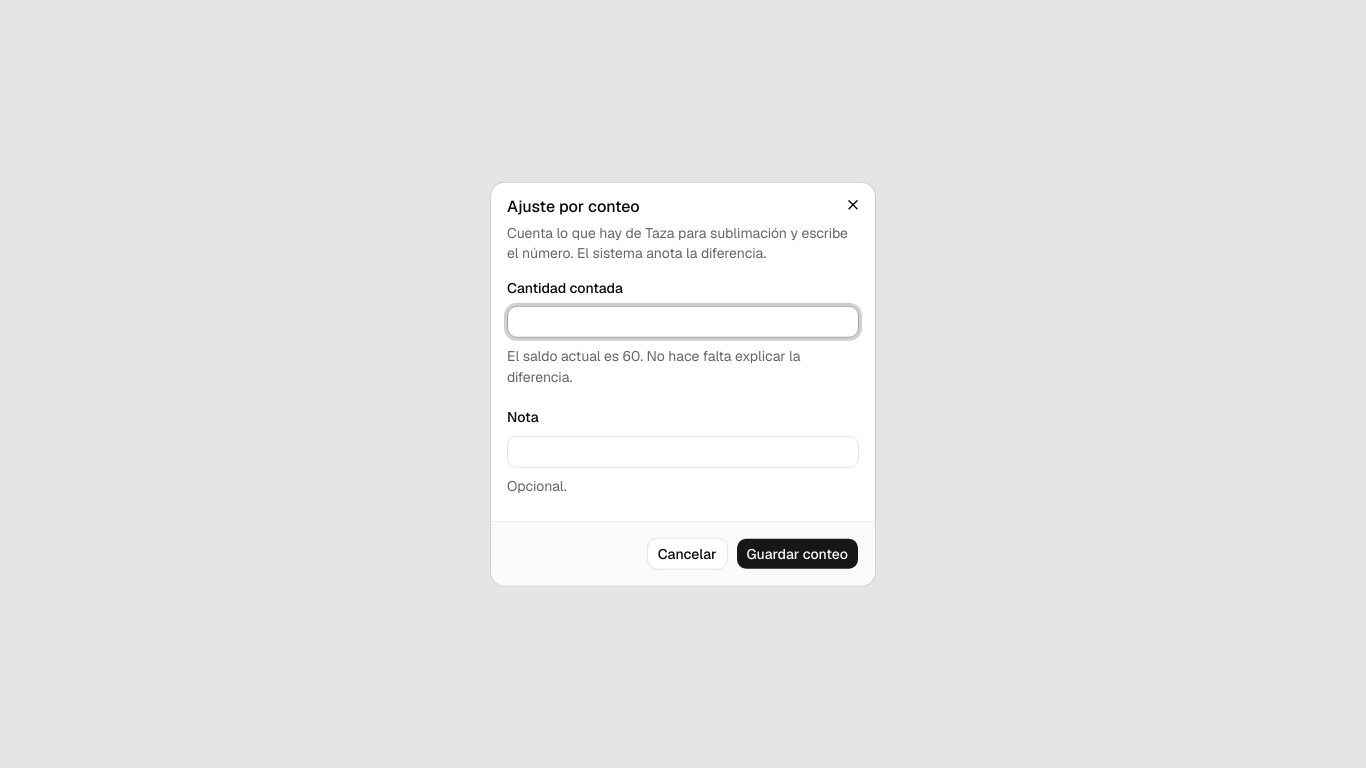
Test: CountDialog › rechaza un conteo negativo sin llegar a encolar
This screenshot has width=1366, height=768.
Step 1. Type "-3" into the field labelled "Cantidad contada" → (683, 322), box x1=507 y1=306 x2=859 y2=338
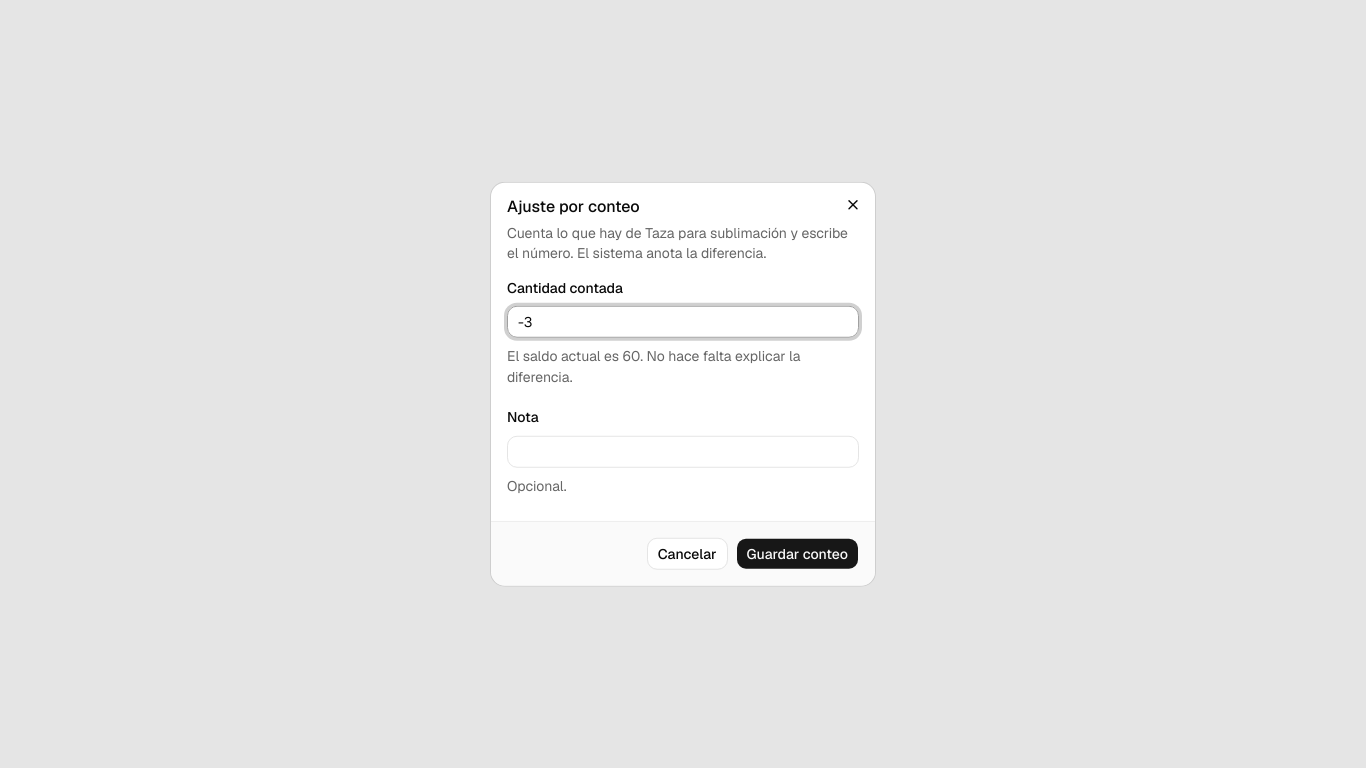
Step 2. Click the button "Guardar conteo" → (797, 553), box x1=736 y1=537 x2=859 y2=569
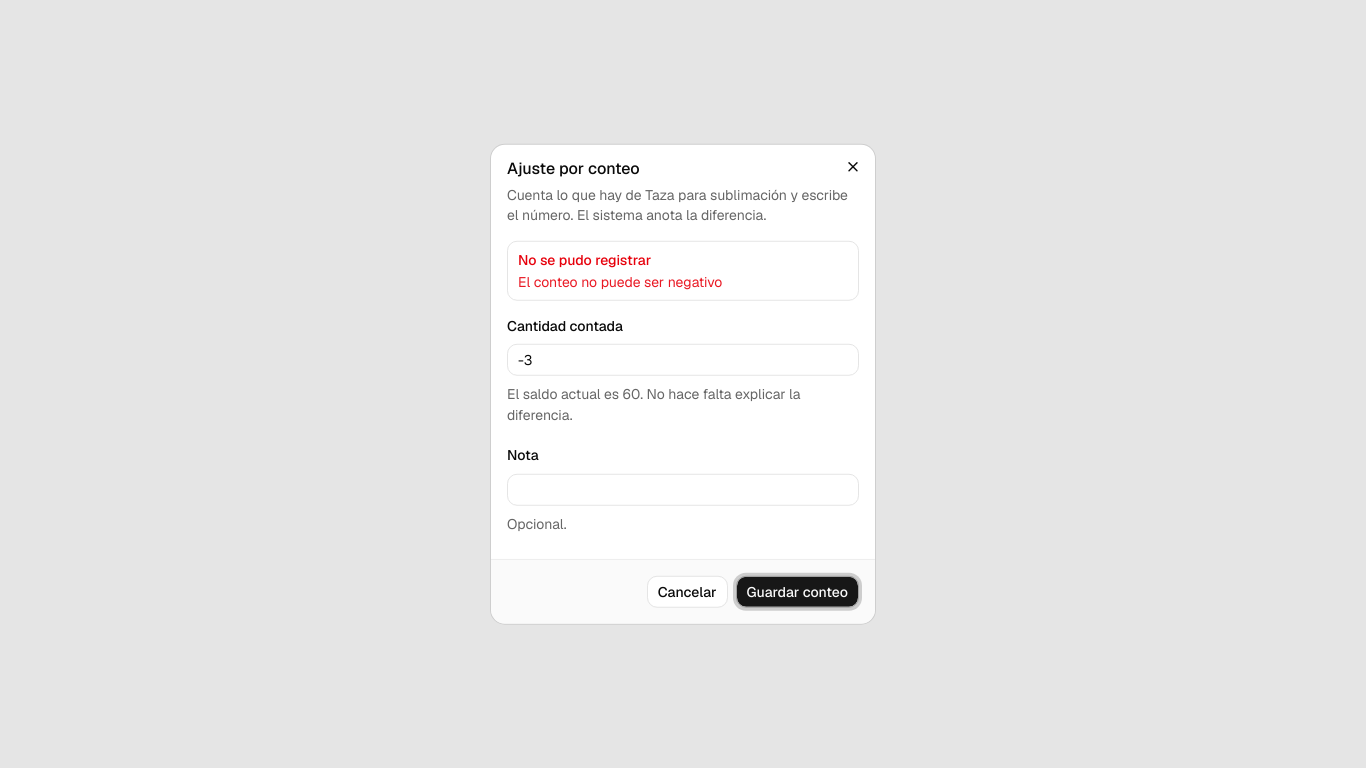
Now the text "El conteo no puede ser negativo" is shown, box x1=518 y1=273 x2=722 y2=291
